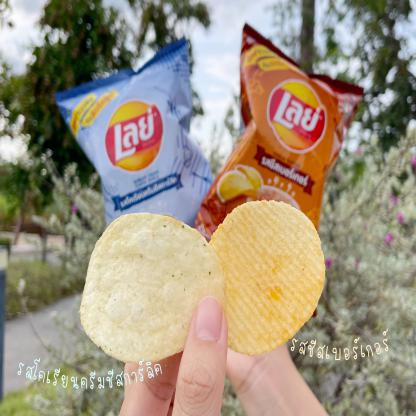potatochip: (185, 16, 369, 301), (47, 29, 222, 284)
